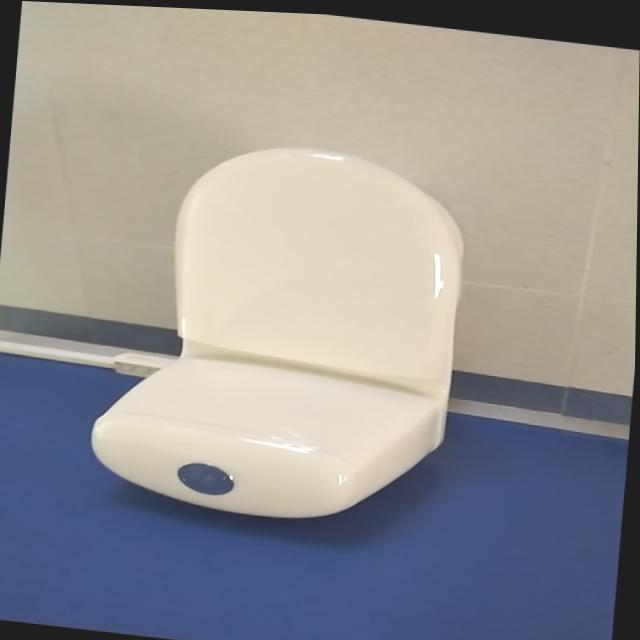toilet: (86, 124, 474, 535)
